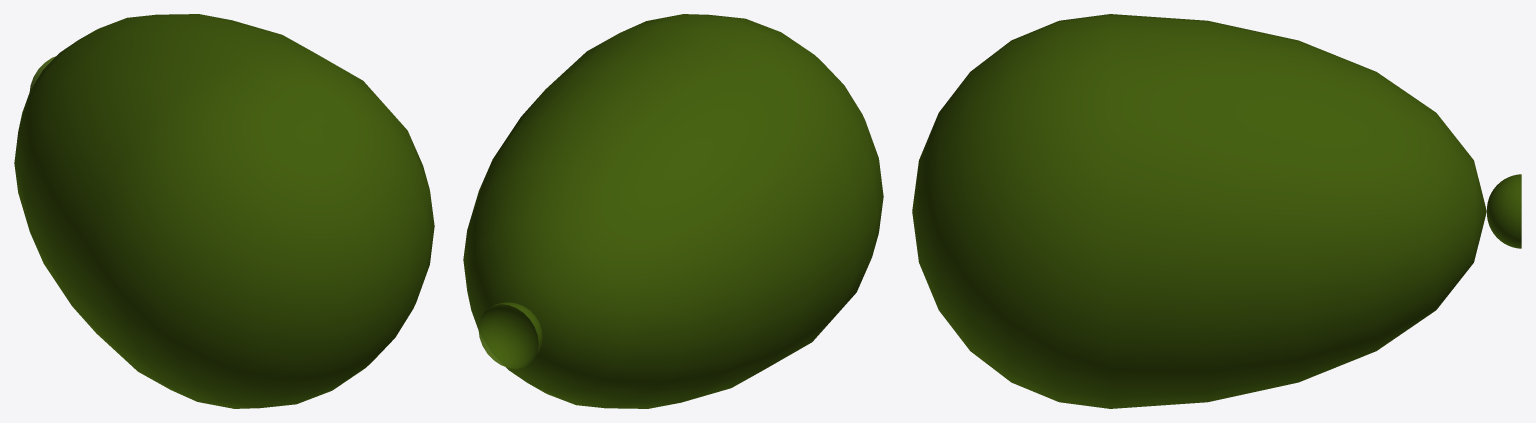
The model's file is SketchyPhysics+Balloon.fbx.
The picture shows the model from 3 angles, left to right: view 1: azimuth 30°, elevation 25°; view 2: azimuth 150°, elevation 25°; view 3: azimuth 270°, elevation 25°; orthographic projection. The views are drawn at different scales.
Visible parts, largest first — view 1: convexhull; view 2: convexhull; view 3: convexhull.
Boxes of the visible parts, x1,y1,x2,y2 form: convexhull: [14, 14, 434, 408]; convexhull: [463, 14, 883, 408]; convexhull: [912, 14, 1521, 408].
Size of the model in its own units: 56.09 by 56.09 by 86.24.
